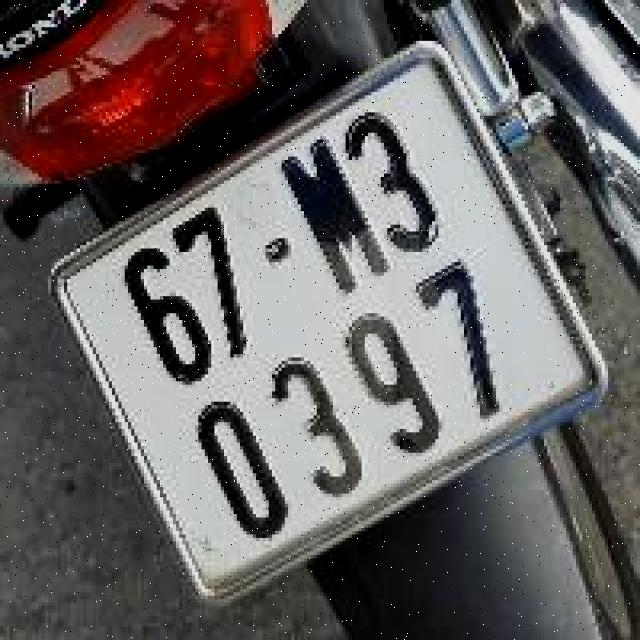0: (176, 378, 310, 557)
3: (329, 91, 463, 271), (255, 339, 381, 514)
6: (108, 235, 231, 401)
7: (400, 245, 537, 435), (161, 194, 273, 374)
9: (327, 296, 458, 468)
M: (262, 118, 404, 314)
